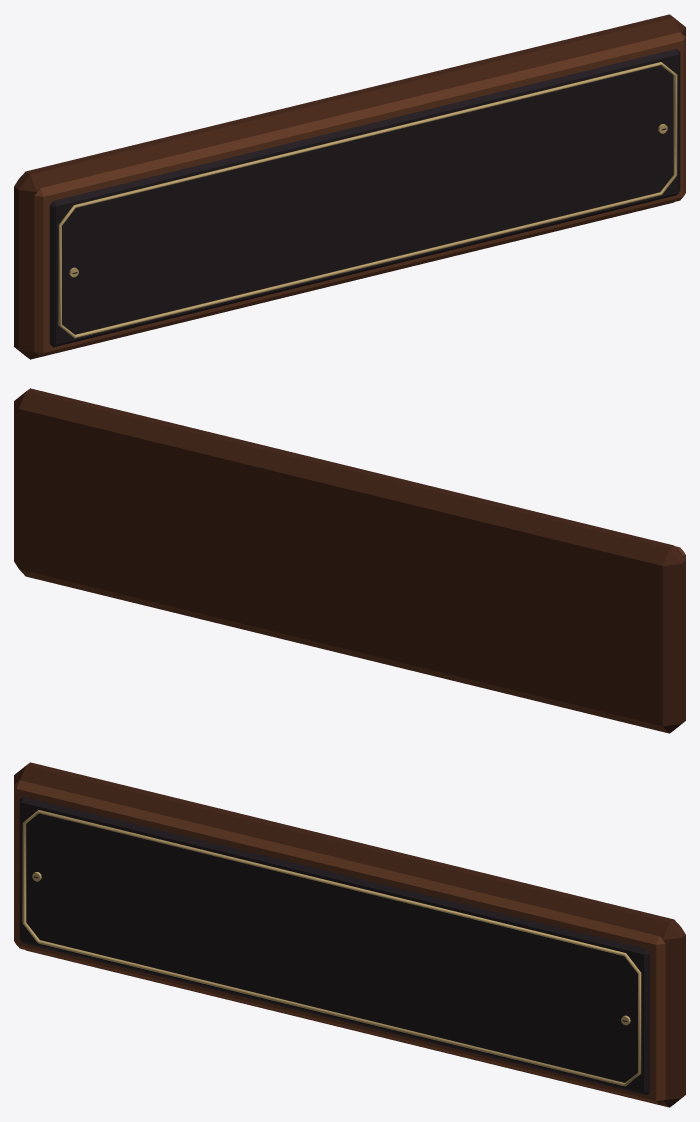
File: SharedBlankPlaque.glb
3 renders of one model, top to bottom at view 1: azimuth 30°, elevation 25°; view 2: azimuth 150°, elevation 25°; view 3: azimuth 330°, elevation 25°, orthographic.
Visible parts, largest first — view 1: EnamelFace.018, OakMoulding.018, BevelledOak.018, GoldCartouche.018; view 2: BevelledOak.018; view 3: EnamelFace.018, OakMoulding.018, BevelledOak.018, GoldCartouche.018.
Boxes of the visible parts, <box> form: EnamelFace.018: <box>49,49,680,347</box>; OakMoulding.018: <box>34,32,685,356</box>; BevelledOak.018: <box>14,14,685,359</box>; GoldCartouche.018: <box>58,62,677,338</box>; BevelledOak.018: <box>14,388,685,733</box>; EnamelFace.018: <box>19,797,650,1095</box>; OakMoulding.018: <box>14,780,665,1104</box>; BevelledOak.018: <box>14,762,685,1107</box>; GoldCartouche.018: <box>22,810,641,1086</box>.
Bounding box in the file's own units: 5.1 × 1.35 × 0.381.
